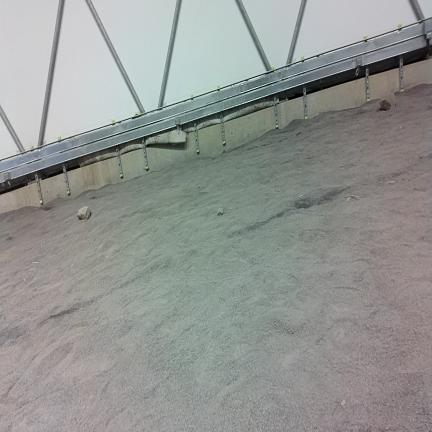Rock: (78, 206, 91, 219), (380, 99, 391, 110), (217, 208, 223, 215), (341, 400, 346, 407)
